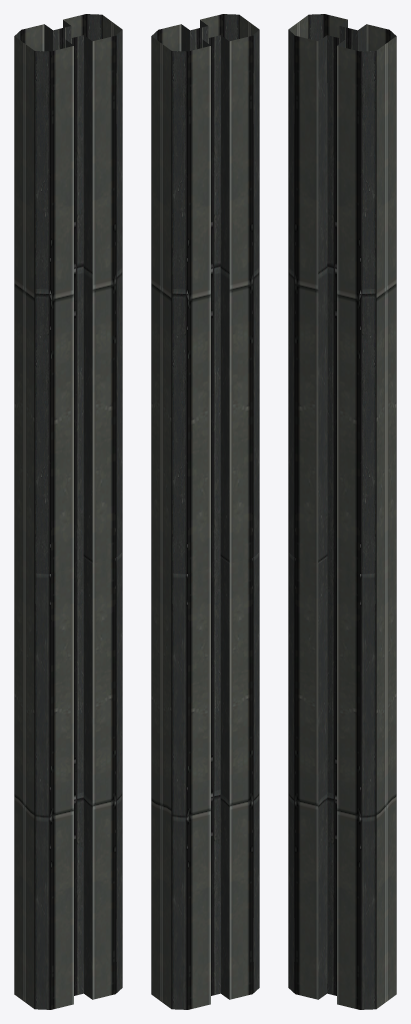
File: TallWindowFrame_1x6_single.FBX
3 renders of one model, left to right at view 1: azimuth 30°, elevation 25°; view 2: azimuth 210°, elevation 25°; view 3: azimuth 330°, elevation 25°, orthographic.
Parts seen in each view (by area): view 1: TallWindowFrame_1x6_single; view 2: TallWindowFrame_1x6_single; view 3: TallWindowFrame_1x6_single.
Boxes of the visible parts, x1,y1,x2,y2 form: TallWindowFrame_1x6_single: (14,14,122,1009); TallWindowFrame_1x6_single: (151,14,259,1009); TallWindowFrame_1x6_single: (288,14,396,1009).
Bounding box in the file's own units: 0.3797 × 3.96 × 0.2221.
